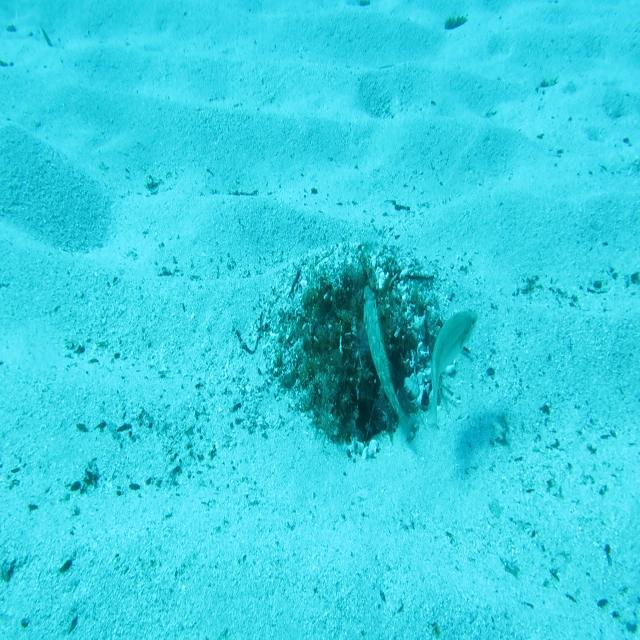FAN: (361, 283, 413, 444)
core_nest: (330, 297, 388, 360)
female: (424, 307, 479, 431)
nest: (248, 205, 474, 459)
vegetation: (441, 13, 469, 32)
